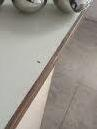ironball: (50, 0, 96, 14), (7, 0, 48, 13), (0, 0, 10, 8)
